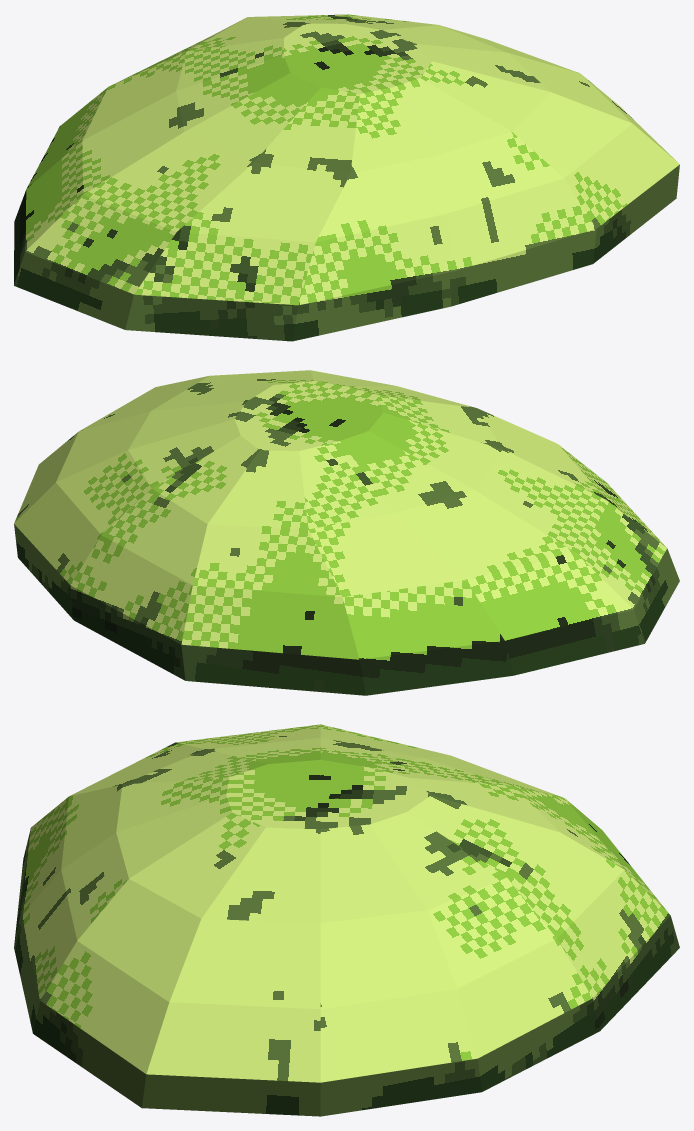
The model's file is SM_Dirt_SlimePuddleSmall_01.glb.
3 renders of one model, top to bottom at view 1: azimuth 30°, elevation 25°; view 2: azimuth 150°, elevation 25°; view 3: azimuth 270°, elevation 25°, orthographic. The views are drawn at different scales.
Visible parts, largest first — view 1: slime_shell; view 2: slime_shell; view 3: slime_shell.
Part boxes in pixels (x1,y1,x2,y2): slime_shell: [14, 14, 679, 341]; slime_shell: [14, 370, 679, 695]; slime_shell: [14, 724, 679, 1116].
Size of the model in its own units: 0.5875 by 0.153 by 0.4758.
1 material, 1 textured.
